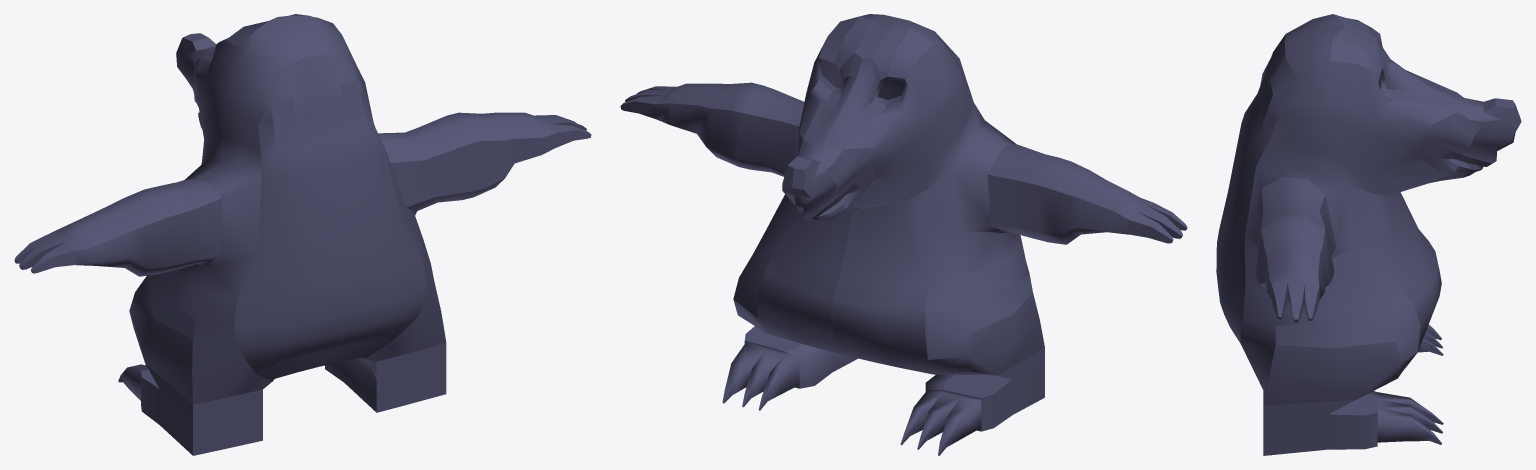
File: prueba_topo3.fbx
3 views of the same model, side by side, from view 1: azimuth 30°, elevation 25°; view 2: azimuth 150°, elevation 25°; view 3: azimuth 270°, elevation 25° (orthographic). The views are drawn at different scales.
Parts seen in each view (by area): view 1: pCube13; view 2: pCube13; view 3: pCube13.
Boxes of the visible parts, box(x1,y1,x2,y2) form: pCube13: box(14, 14, 591, 455); pCube13: box(620, 14, 1187, 455); pCube13: box(1216, 14, 1521, 455).
Size of the model in its own units: 0.0353 by 0.0226 by 0.0168.
1 material, 1 textured.
